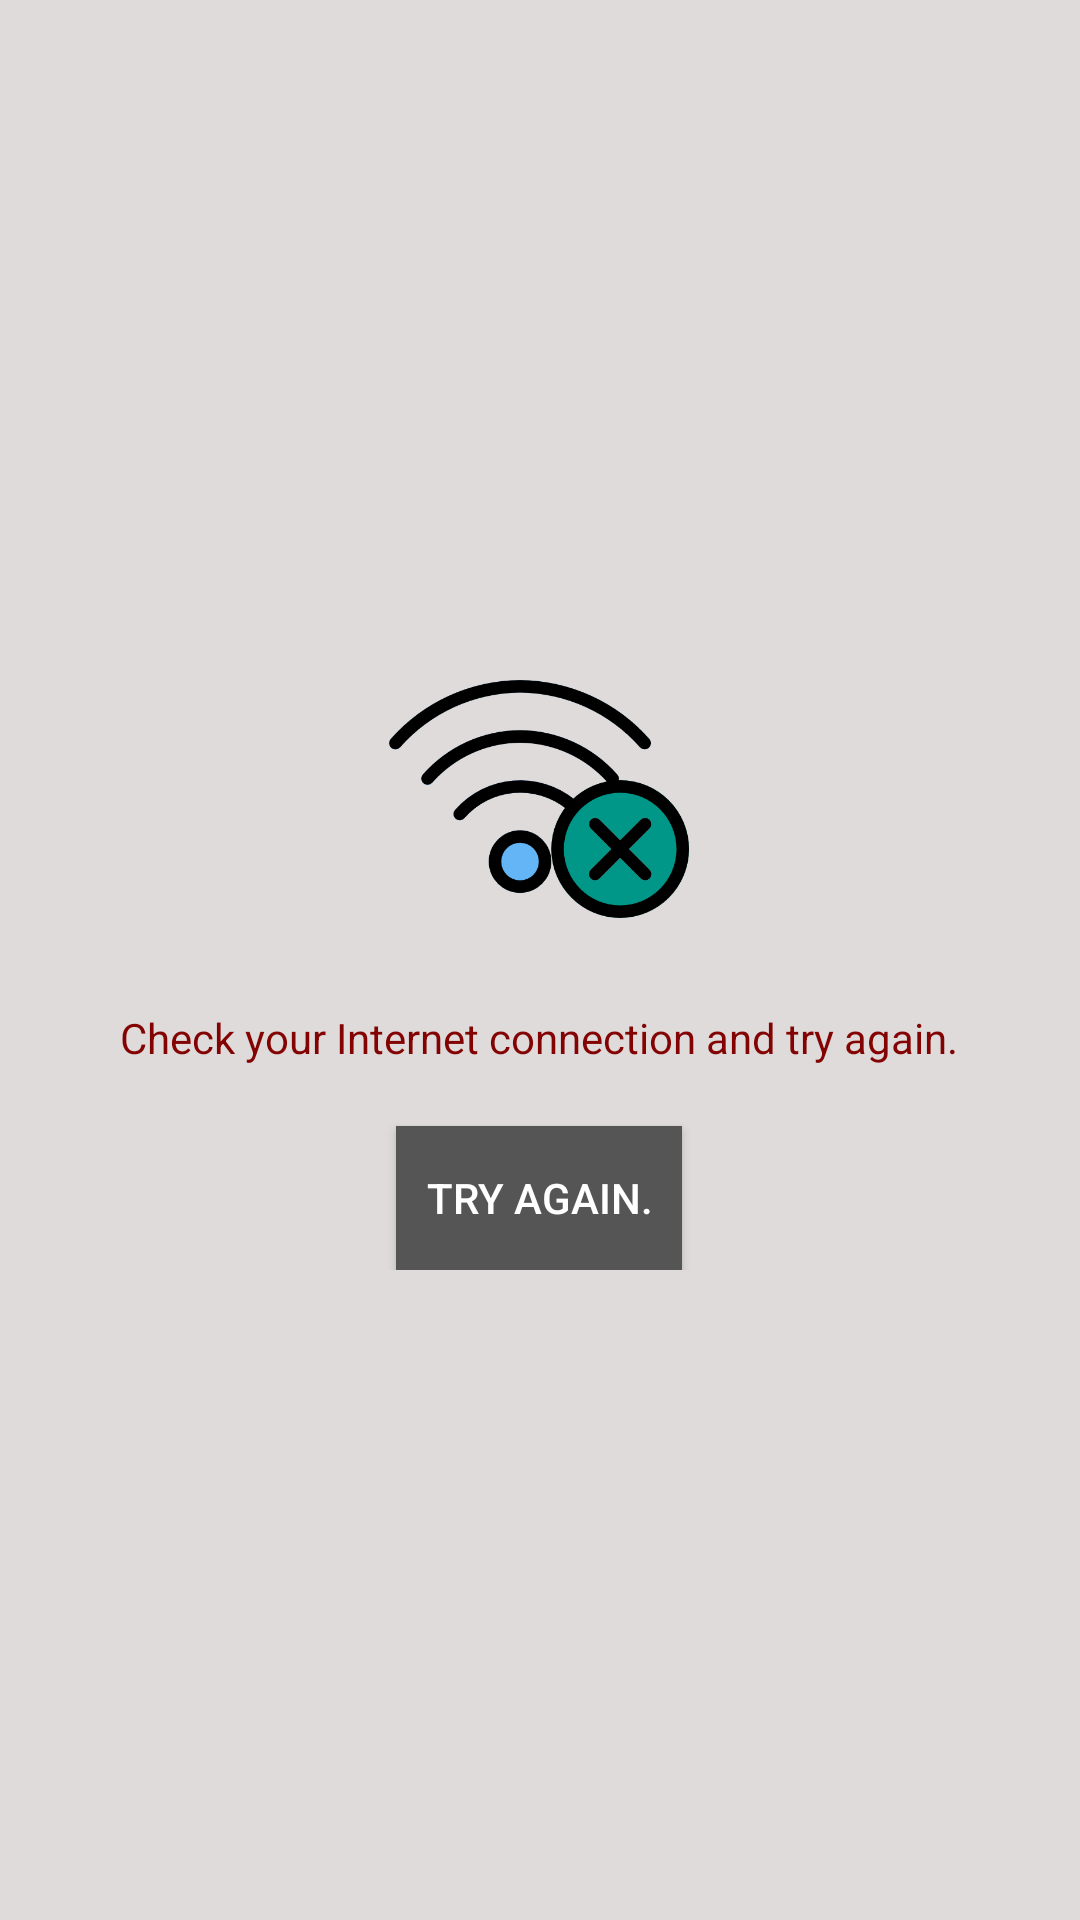

Where to tap for icons on this 1080 x 1920 app screen, as [x,y]:
error network: [539,799]
